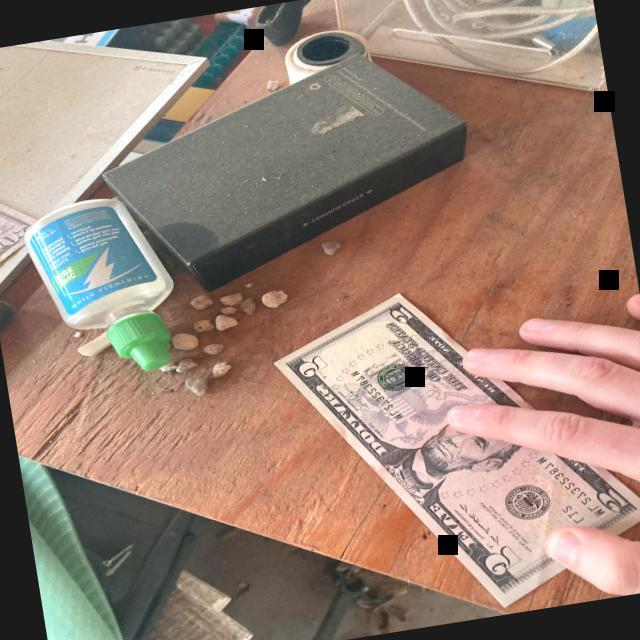five: (271, 292, 640, 607)
